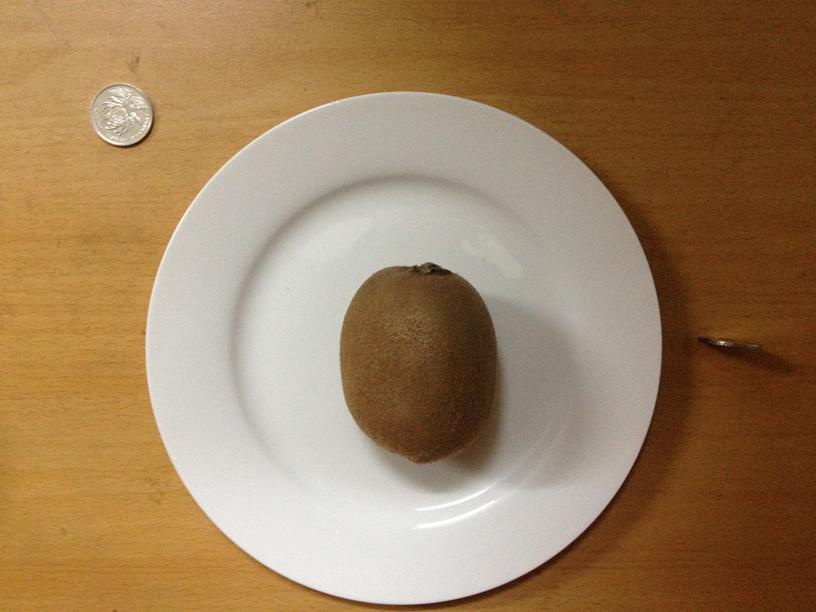coin: (88, 82, 155, 146)
qiwi: (109, 102, 172, 161)
